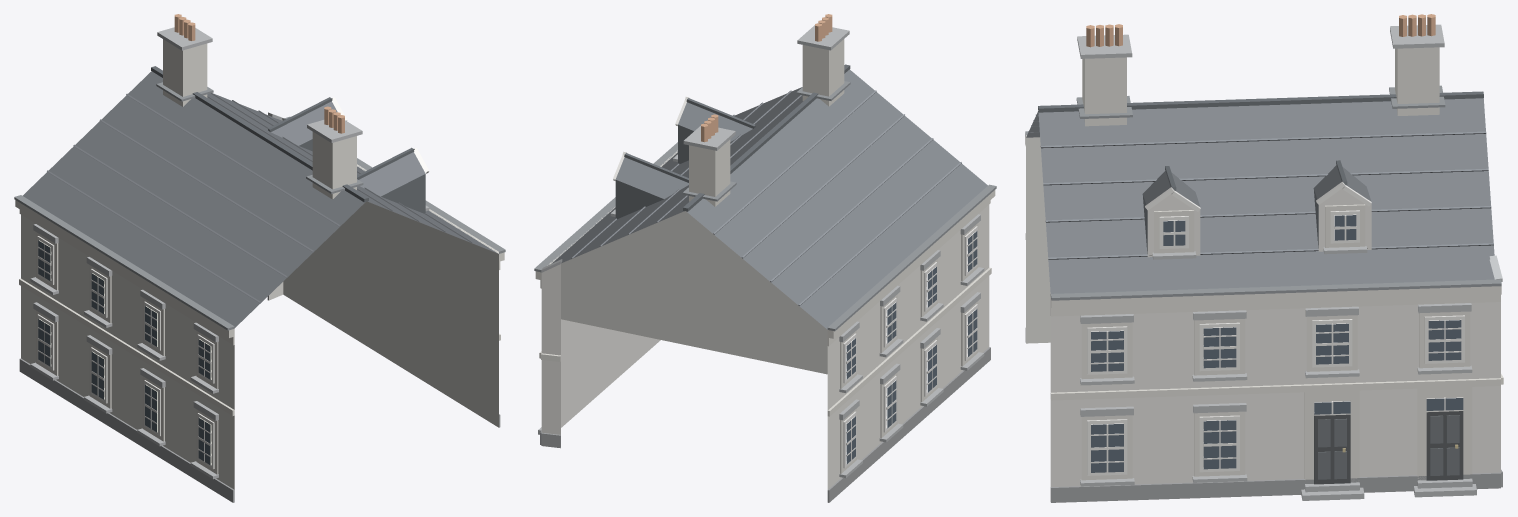
3 views of the same model, side by side, from view 1: azimuth 30°, elevation 25°; view 2: azimuth 150°, elevation 25°; view 3: azimuth 270°, elevation 25° (orthographic). The views are drawn at different scales.
Visible parts, largest first — view 1: slate, harl, string, dress_dark, chim_render, frame, slate_lt, lead, slate_dk, plinth, pot; view 2: harl, slate, string, dress_dark, chim_render, lead, frame, slate_dk, slate_lt, plinth, pot; view 3: slate, harl, string, dress_dark, frame, plinth, chim_render, slate_lt, lead, slate_dk, door_dark_p, door_dark (+7 smaller).
Part boxes in pixels (x1,y1,x2,y2): slate: (22,71,497,327); harl: (21,201,498,489); string: (15,164,504,474); dress_dark: (30,27,429,479); chim_render: (163,39,356,199); frame: (37,97,429,469); slate_lt: (47,93,472,303); lead: (14,82,505,330); slate_dk: (151,66,425,213); plinth: (19,295,500,502); pot: (174,14,344,133); harl: (541,205,989,489); slate: (552,69,987,329); string: (535,150,995,473); dress_dark: (538,25,984,478); chim_render: (689,39,844,206); lead: (534,81,996,331); frame: (613,97,977,468); slate_dk: (615,64,850,219); slate_lt: (571,90,961,305); plinth: (540,347,990,502); pot: (701,14,832,142); slate: (1026,98,1494,293); harl: (1026,137,1500,486); string: (1025,135,1503,480); dress_dark: (1077,24,1502,500); frame: (1087,181,1464,475); plinth: (1025,328,1502,502); chim_render: (1082,47,1439,126); slate_lt: (1028,115,1493,259); lead: (1025,85,1501,300); slate_dk: (1038,91,1483,253); door_dark_p: (1318,415,1459,479); door_dark: (1314,411,1463,484).
Bounding box in the file's own units: 11.74 × 11.89 × 13.09.
